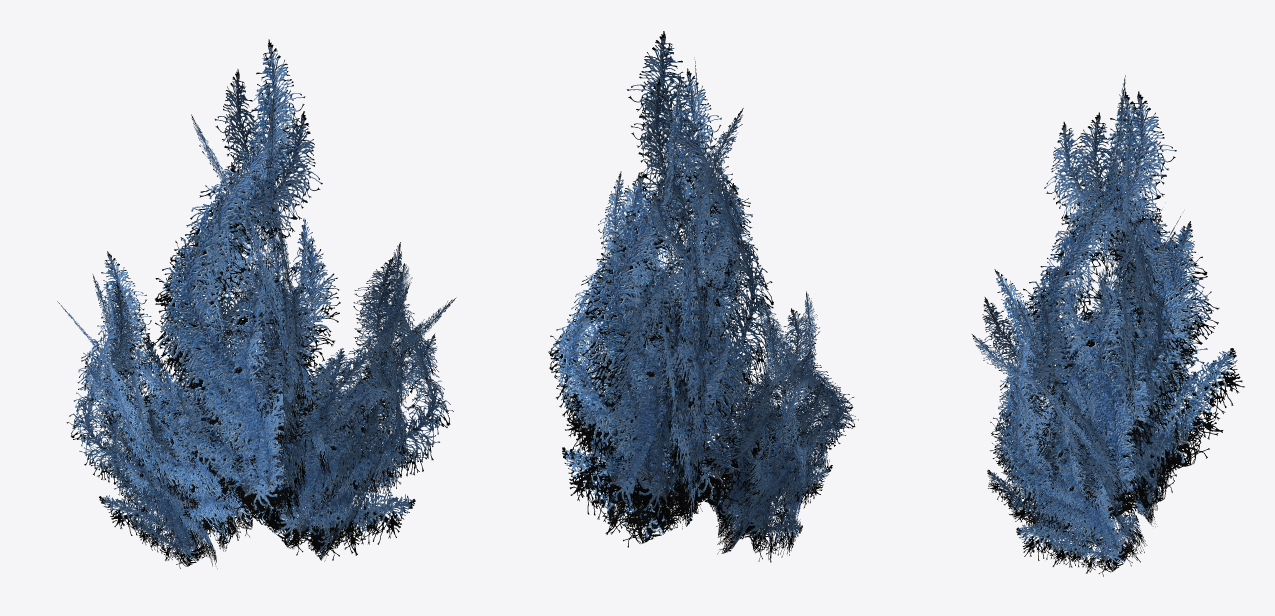
The model's file is vege_magique2.FBX.
The picture shows the model from 3 angles, left to right: view 1: azimuth 30°, elevation 25°; view 2: azimuth 150°, elevation 25°; view 3: azimuth 270°, elevation 25°; orthographic projection. The views are drawn at different scales.
Visible parts, largest first — view 1: Plane448; view 2: Plane448; view 3: Plane448.
Part boxes in pixels (x1=…): Plane448: x1=57, y1=39, x2=456, y2=568; Plane448: x1=548, y1=31, x2=858, y2=562; Plane448: x1=972, y1=75, x2=1244, y2=576.
Bounding box in the file's own units: 293 × 370 × 222.
